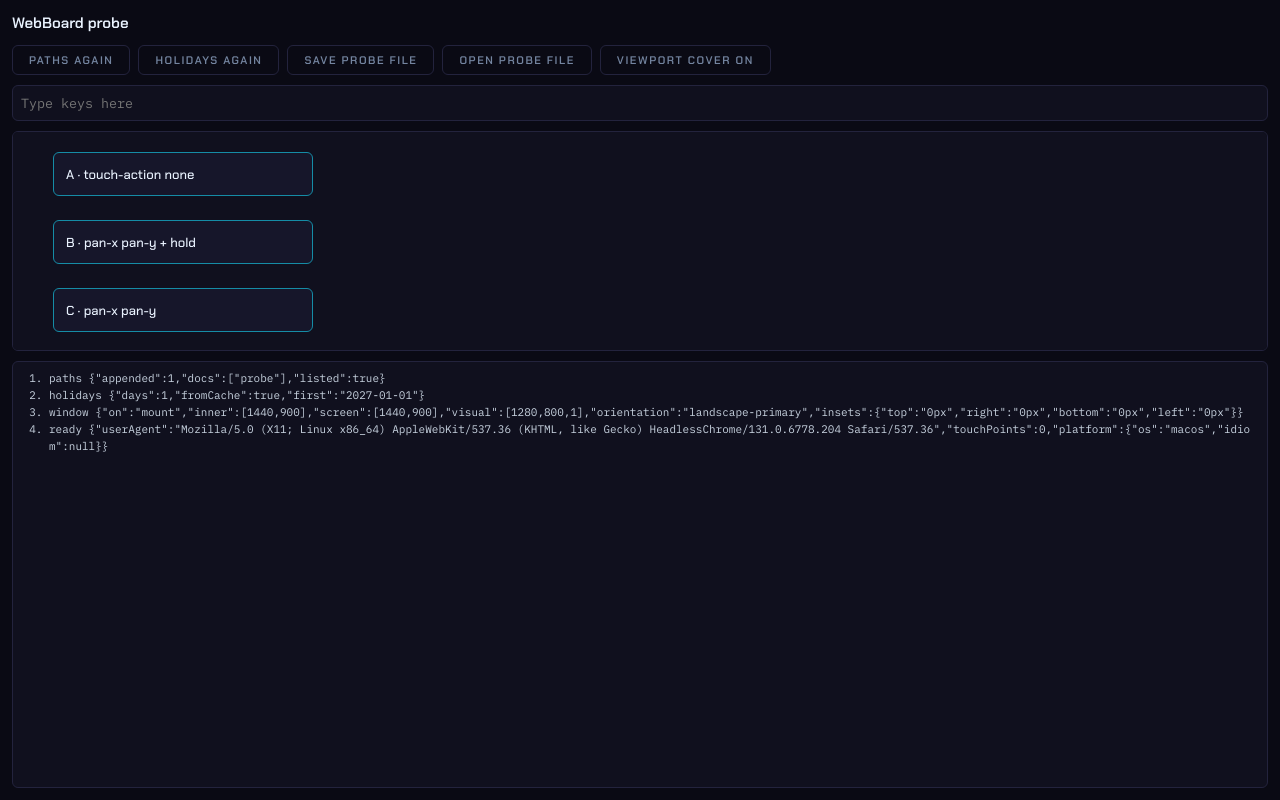
ProbeApp › prevents a touchmove after the hold on bar B and not on bar C
Press the mouse on the text "B · pan-x pan-y + hold" at (183, 242), box left=53, top=220, right=313, bottom=264
Press the mouse on the text "C · pan-x pan-y" at (183, 310), box left=53, top=288, right=313, bottom=332
Wait 500 ms
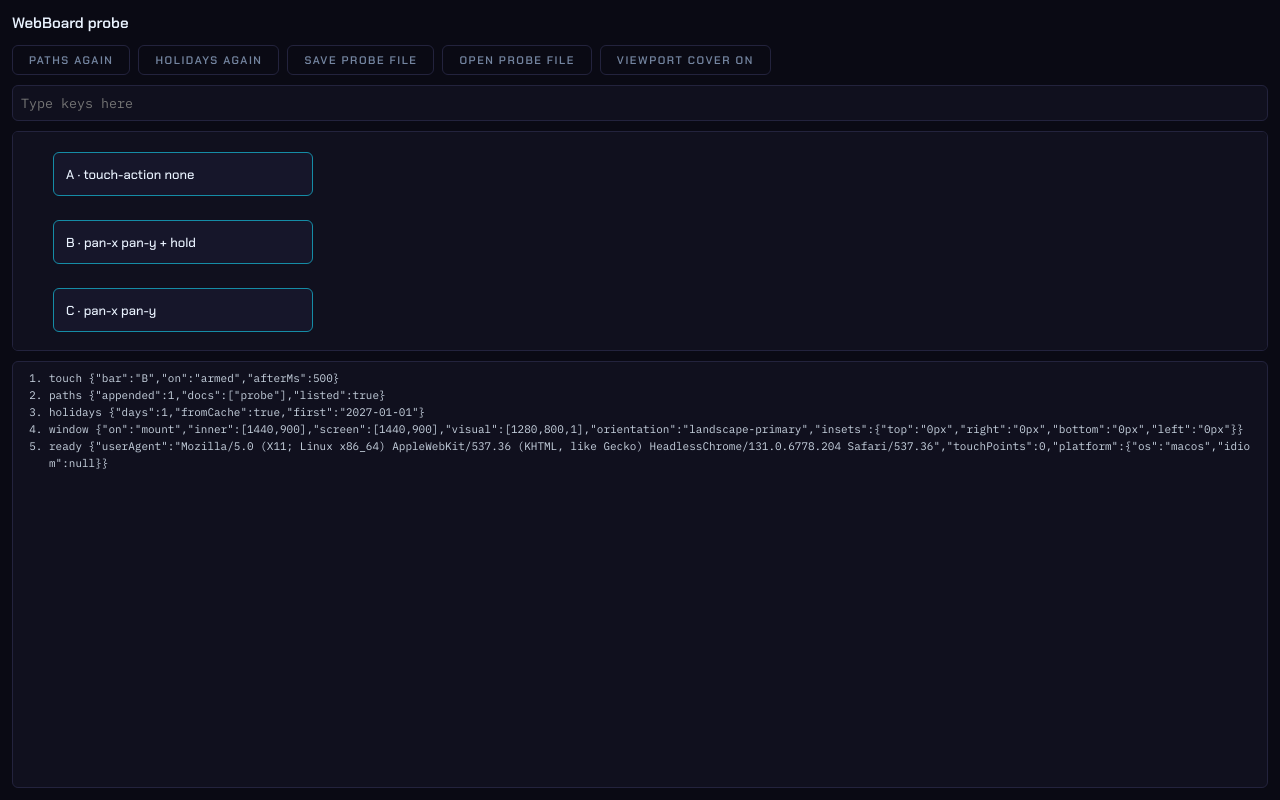
Expected: the list item "touch {\"bar\":\"B\",\"on\":\"armed\",\"afterMs\":500}" reads "touch {\"bar\":\"B\",\"on\":\"armed\",\"afterMs\":500}", left=49, top=371, right=339, bottom=385
